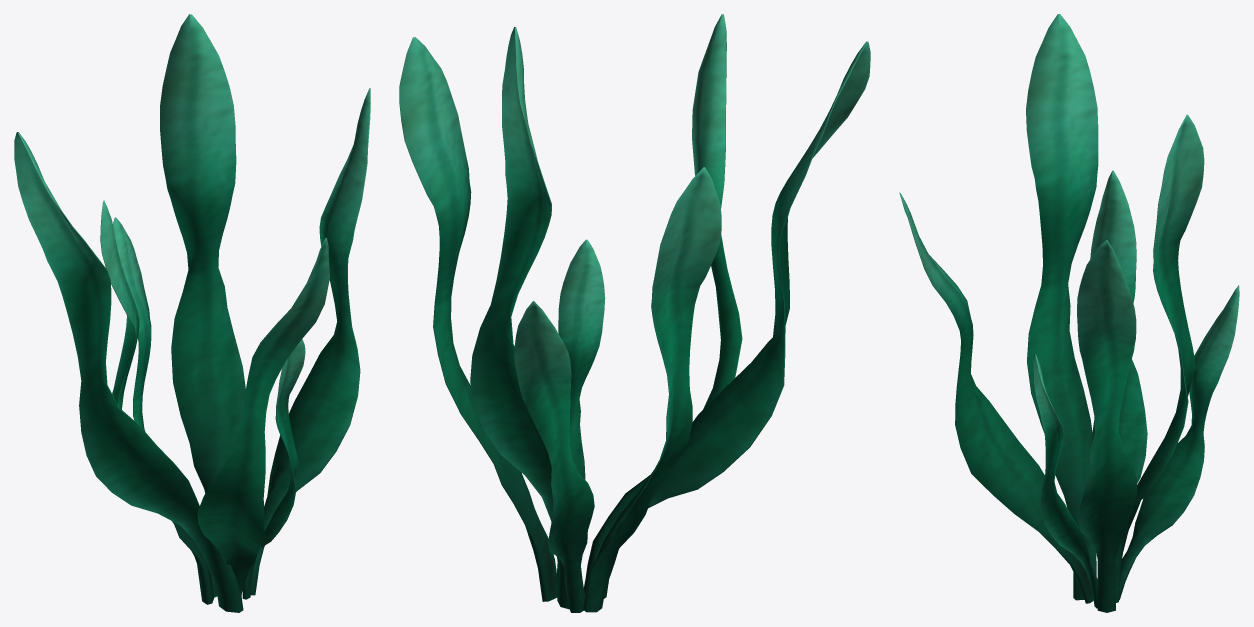
The model's file is Cartoon Seaweed_10_7.FBX.
The picture shows the model from 3 angles, left to right: view 1: azimuth 30°, elevation 25°; view 2: azimuth 150°, elevation 25°; view 3: azimuth 270°, elevation 25°; orthographic projection. The views are drawn at different scales.
Parts seen in each view (by area): view 1: Cartoon Seaweed 10.7; view 2: Cartoon Seaweed 10.7; view 3: Cartoon Seaweed 10.7.
Boxes of the visible parts, left/top/right/bottom form: Cartoon Seaweed 10.7: left=14, top=14, right=370, bottom=612; Cartoon Seaweed 10.7: left=399, top=14, right=870, bottom=612; Cartoon Seaweed 10.7: left=899, top=14, right=1239, bottom=612.
Size of the model in its own units: 17.26 by 23.7 by 14.85.
